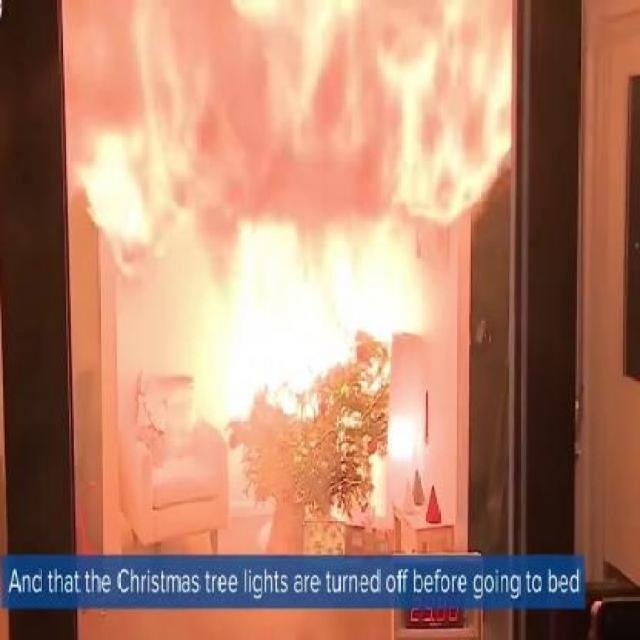fire: (68, 0, 517, 418)
